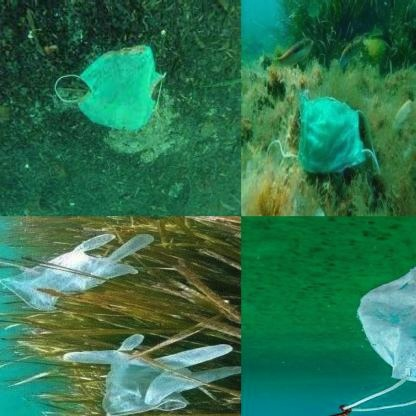Mask: (339, 220, 415, 416), (54, 43, 167, 133), (264, 95, 382, 178)
glove: (61, 328, 241, 416), (0, 231, 164, 318)
